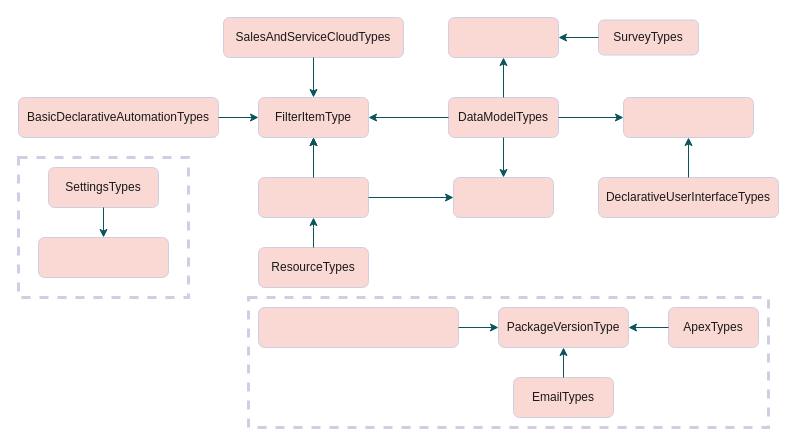
The diagram is 796 pixels wide and 446 high, and some of its shapes have lost their labels. The shapes that lost their labels are listed below. From the top down, each one's box as (x1, y1, x2, y2) in pixels, then its label:
(448, 16, 558, 58): PicklistValueType
(622, 96, 754, 138): ActionOverrideType
(258, 176, 368, 218): SharingTypes
(452, 176, 554, 218): SharedToType
(38, 236, 168, 278): ObjectMappingTypes
(258, 306, 458, 348): ProgrammaticUserInterfaceTypes
